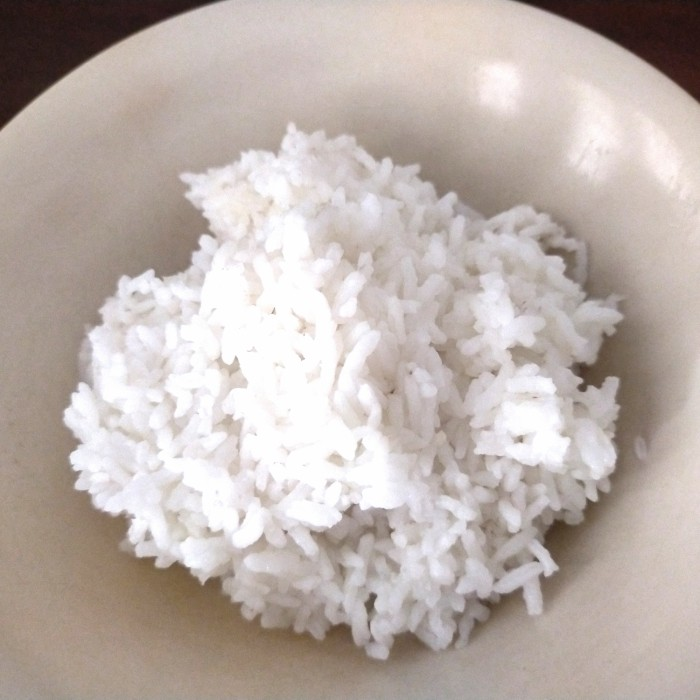Nasi Putih: (41, 138, 643, 655)
